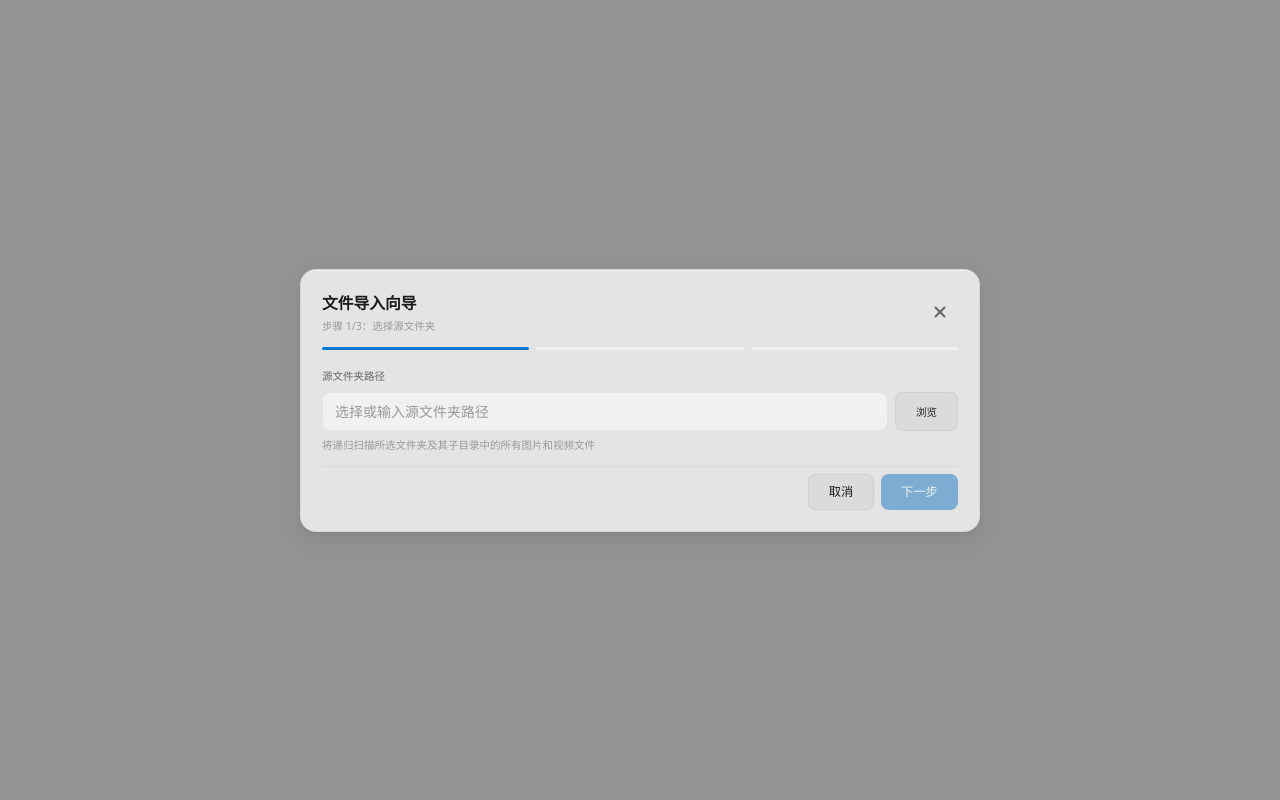
Test: ImportWizard › 正常流程 › C2: 从步骤 2 可进入步骤 3，规则区块渲染且未选目标目录时“开始导入”禁用
The image size is (1280, 800).
Click the button "浏览" at (926, 412), box [895,392,958,431]
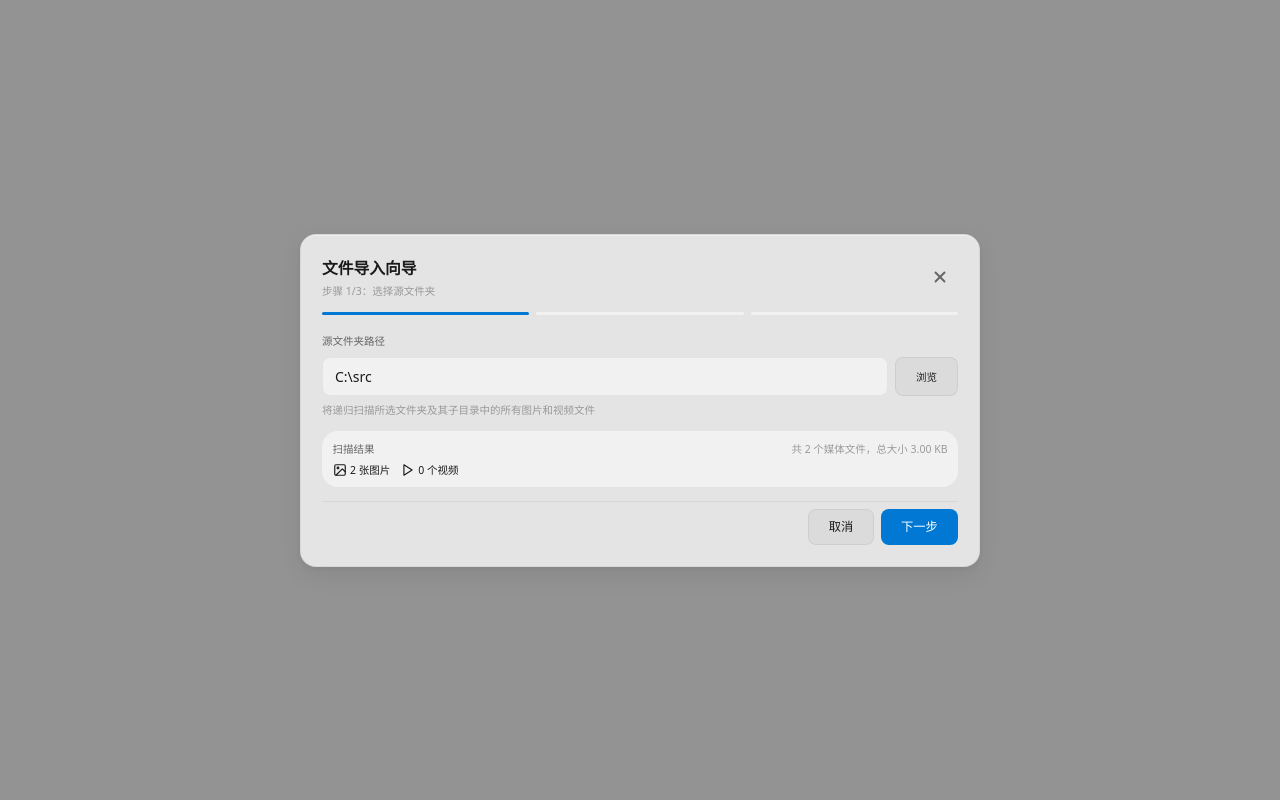
Check: the button "下一步" is enabled
Click the button "下一步" at (920, 527), box [881,509,958,544]
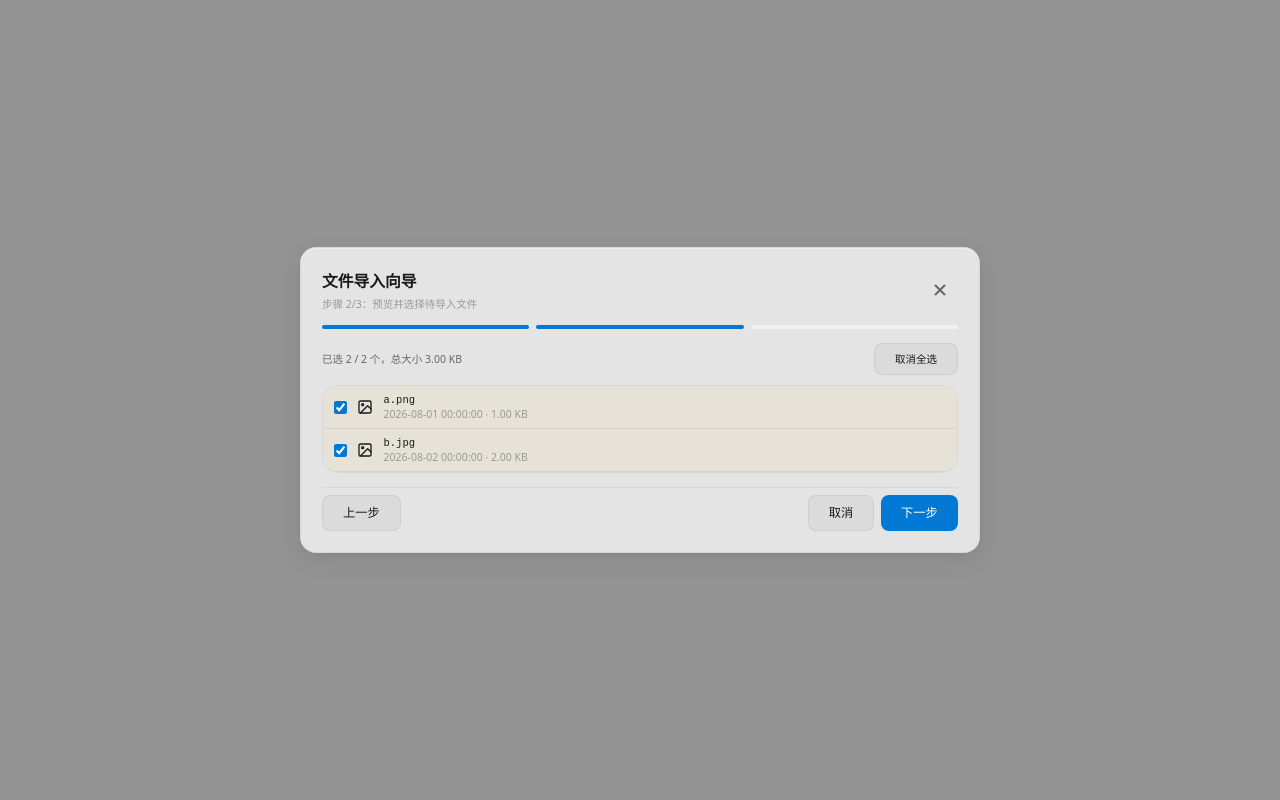
Check: the text "步骤 2/3：预览并选择待导入文件" is shown, box [322,297,477,311]
Click the button "下一步" at (920, 513), box [881,495,958,531]
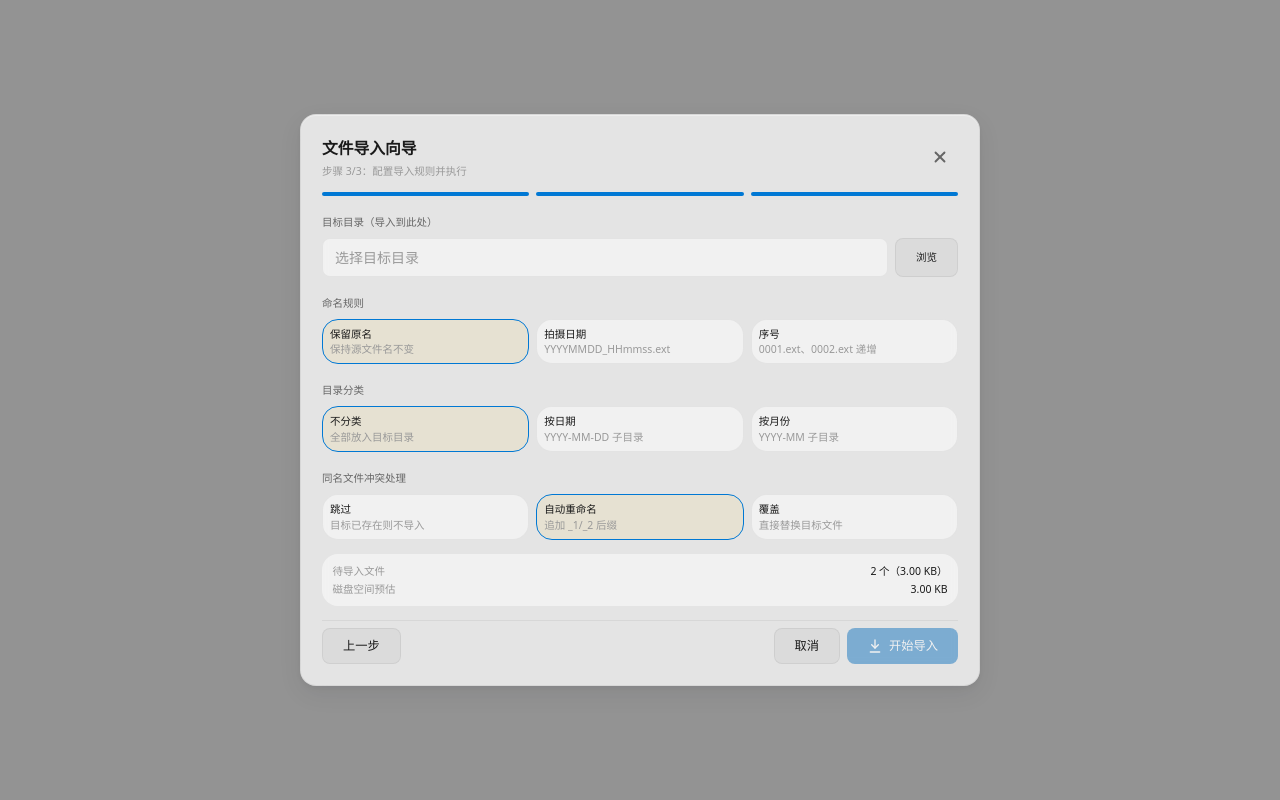
Check: the text "步骤 3/3：配置导入规则并执行" is shown, box [322,164,467,178]
Check: the text "命名规则" is shown, box [322,296,364,310]
Check: the text "目录分类" is shown, box [322,383,364,397]
